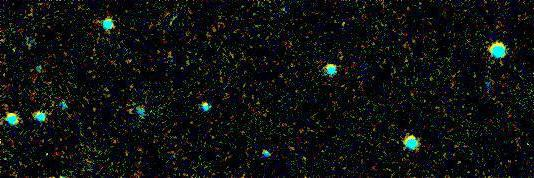star: (190, 88, 220, 118)
